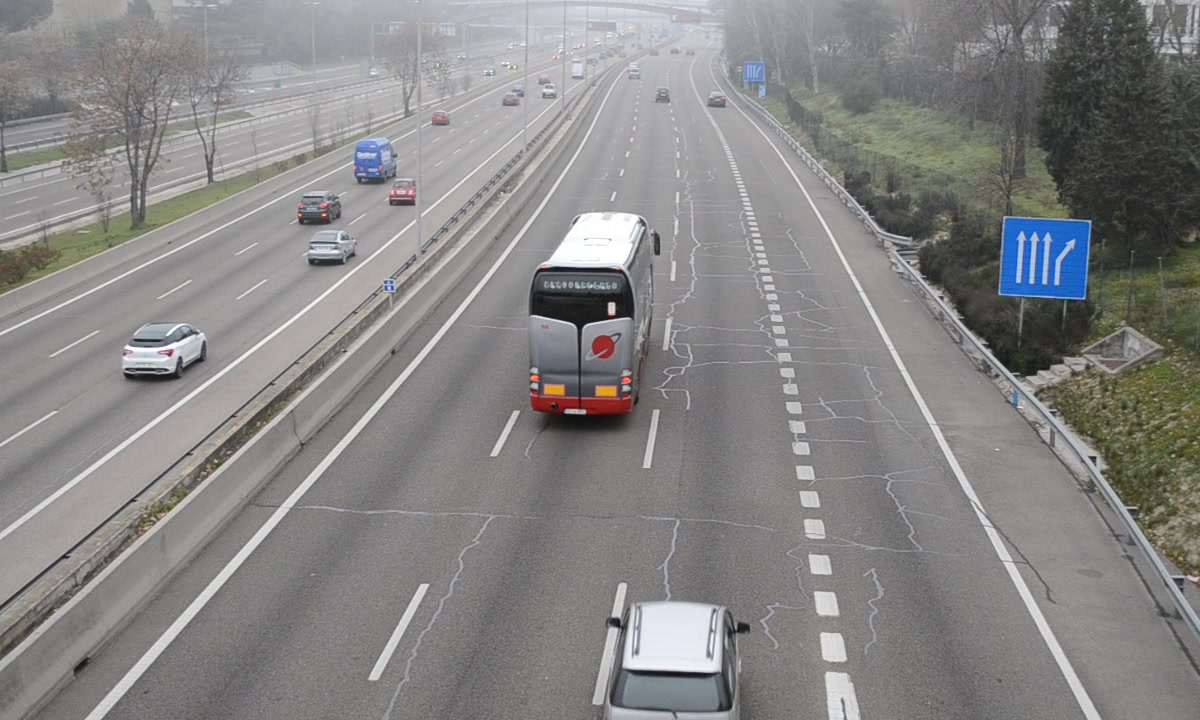bus: (528, 211, 653, 420)
car: (603, 604, 749, 719), (706, 90, 728, 109)
